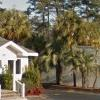Palm tree: (32, 15, 87, 83)
